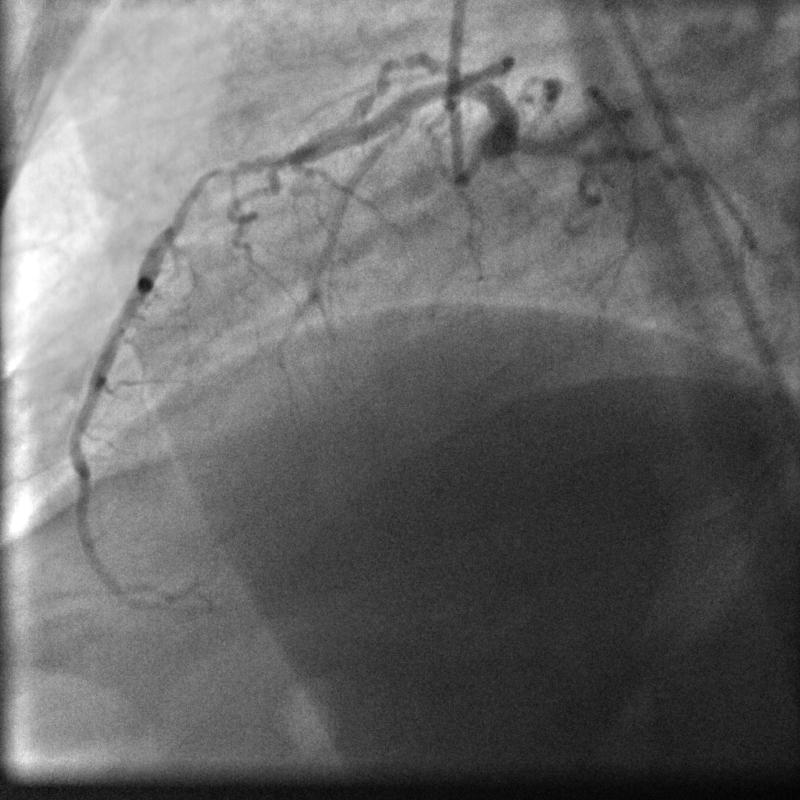Stenosis: (172, 155, 235, 224)
